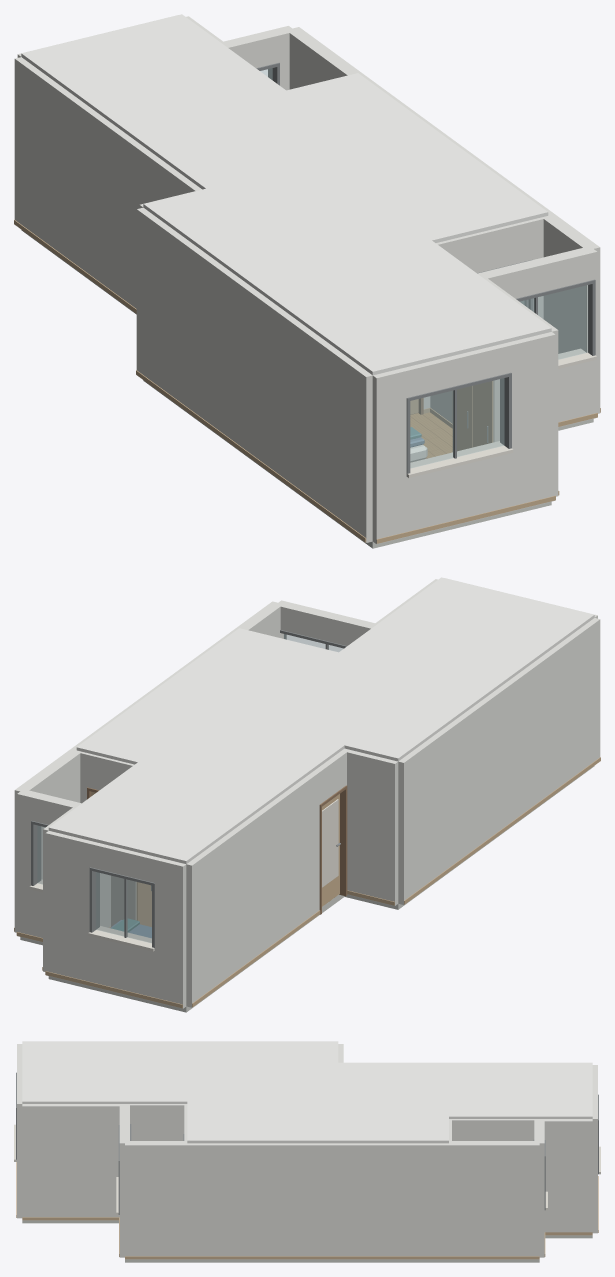
The model's file is two-05.glb.
The picture shows the model from 3 angles, top to bottom: view 1: azimuth 30°, elevation 25°; view 2: azimuth 150°, elevation 25°; view 3: azimuth 270°, elevation 25°; orthographic projection. The views are drawn at different scales.
Visible parts, largest first — view 1: architecture_wall, ceiling_ceiling, frames_glass, trim_oak, frames_metal, furniture_oak, frames_ivory, slab_edge, floor_woodfloor; view 2: architecture_wall, ceiling_ceiling, frames_glass, trim_oak, frames_metal, slab_edge, frames_walnut, door_ivory, furniture_ivory, frames_ivory, furniture_oak, door_oak; view 3: architecture_wall, ceiling_ceiling, trim_oak, slab_edge, frames_metal, frames_ivory.
Part boxes in pixels (box(x1,y1,x2,y2)): architecture_wall: box(14, 16, 600, 544); ceiling_ceiling: box(21, 14, 551, 375); frames_glass: box(260, 68, 587, 467); trim_oak: box(14, 219, 600, 543); frames_metal: box(256, 62, 595, 476); furniture_oak: box(452, 381, 493, 451); frames_ivory: box(407, 348, 596, 478); slab_edge: box(21, 230, 593, 548); floor_woodfloor: box(410, 412, 452, 458); architecture_wall: box(14, 579, 600, 1008); ceiling_ceiling: box(48, 577, 594, 864); frames_glass: box(37, 634, 343, 942); trim_oak: box(14, 757, 600, 1008); frames_metal: box(31, 630, 346, 950); slab_edge: box(20, 766, 594, 1012); frames_walnut: box(87, 785, 347, 914); door_ivory: box(322, 799, 338, 887); furniture_ivory: box(111, 875, 136, 926); frames_ivory: box(29, 879, 154, 951); furniture_oak: box(136, 882, 151, 926); door_oak: box(322, 794, 339, 906); architecture_wall: box(17, 1044, 597, 1259); ceiling_ceiling: box(22, 1041, 592, 1143); trim_oak: box(16, 1162, 598, 1259); slab_edge: box(22, 1220, 592, 1262); frames_metal: box(16, 1072, 598, 1214); frames_ivory: box(14, 1124, 600, 1214).
Bounding box in the file's own units: 5.37 × 2.93 × 12.8.
20 materials, 4 textured.
